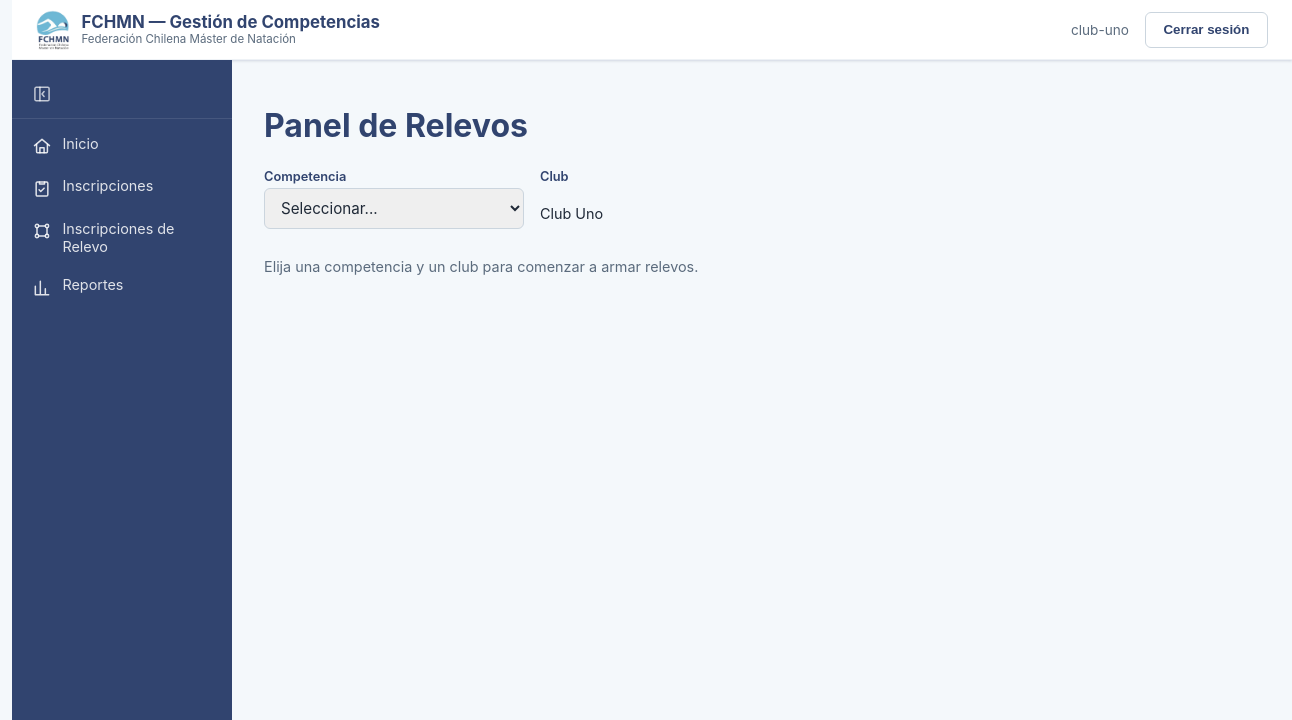
«Inscripciones individuales cerradas»: los relevos SIGUEN abiertos › avisa de que aquí sí se puede seguir trabajando
Select "Competencia A" in the dropdown at (394, 209), box [264,188,524,229]
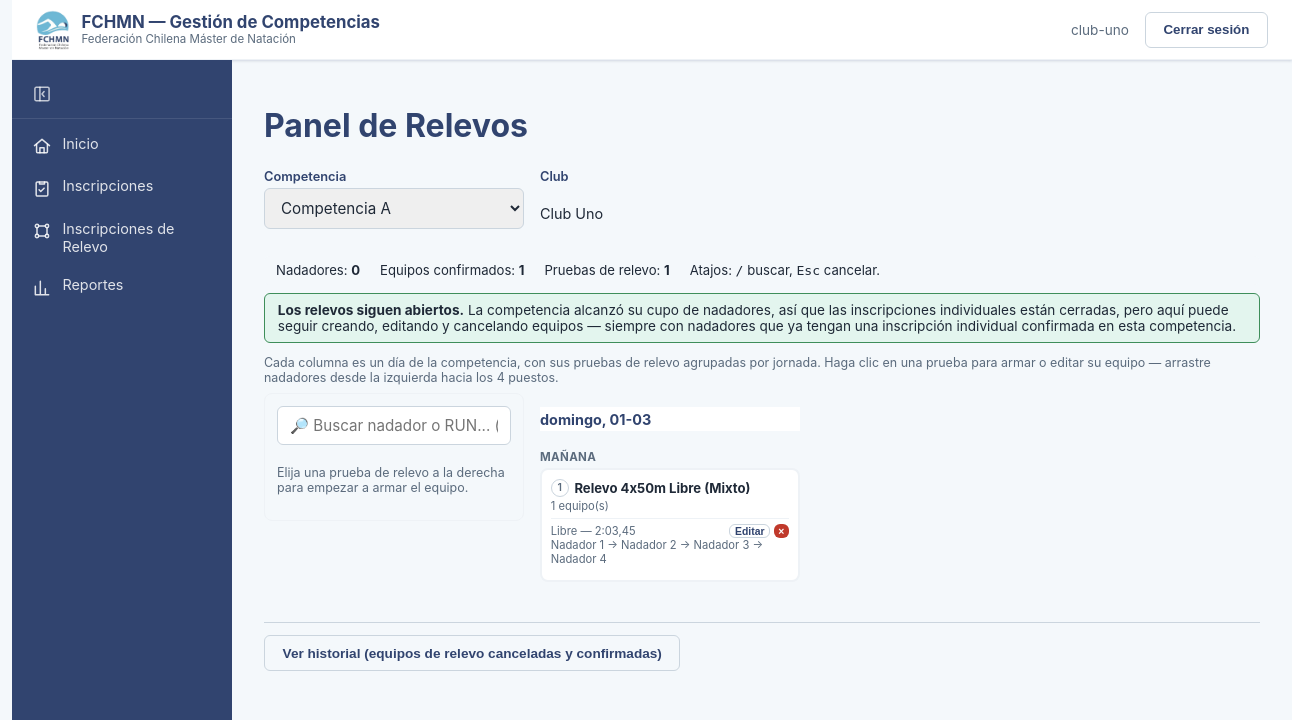
expect the text "Los relevos siguen abiertos." is shown: met, box [278,302,464,318]
expect the text "inscripción individual confirmada" is shown: met, box [278,302,1236,334]
